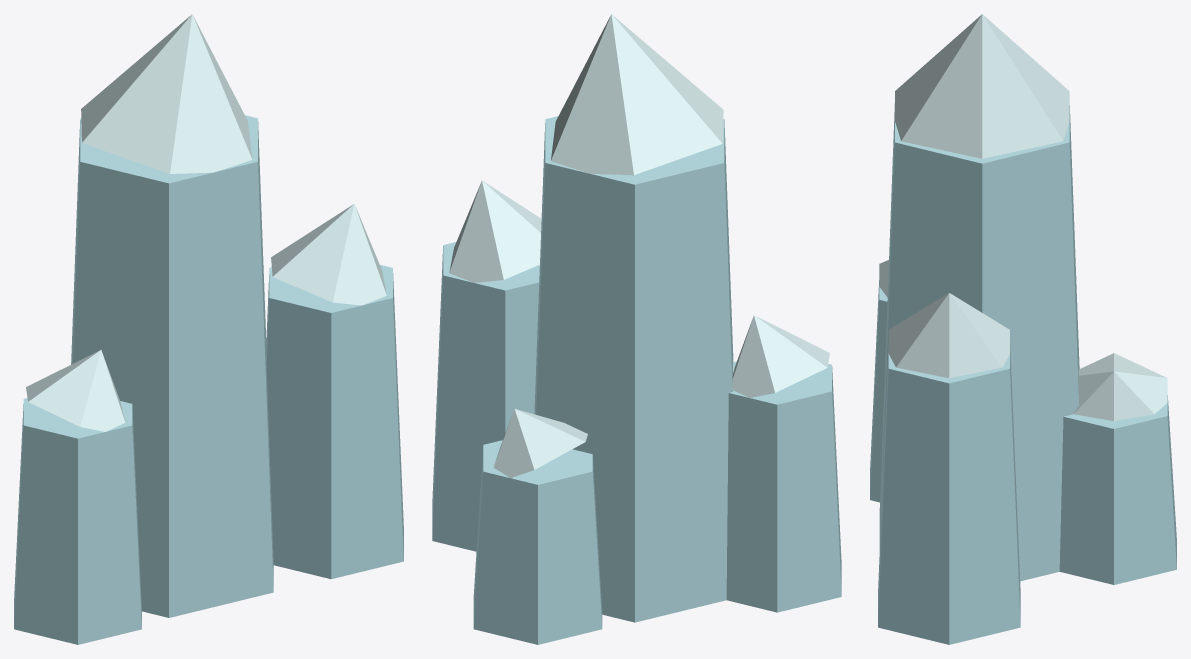
The model's file is ice_crystals.glb.
3 views of the same model, side by side, from view 1: azimuth 30°, elevation 25°; view 2: azimuth 150°, elevation 25°; view 3: azimuth 270°, elevation 25° (orthographic). The views are drawn at different scales.
Visible parts, largest first — view 1: ice_crystals; view 2: ice_crystals; view 3: ice_crystals.
Part boxes in pixels (left/top/right/bottom): ice_crystals: left=14, top=14, right=403, bottom=644; ice_crystals: left=432, top=14, right=841, bottom=644; ice_crystals: left=870, top=14, right=1176, bottom=644.
Size of the model in its own units: 1.37 by 1.8 by 0.9311.
